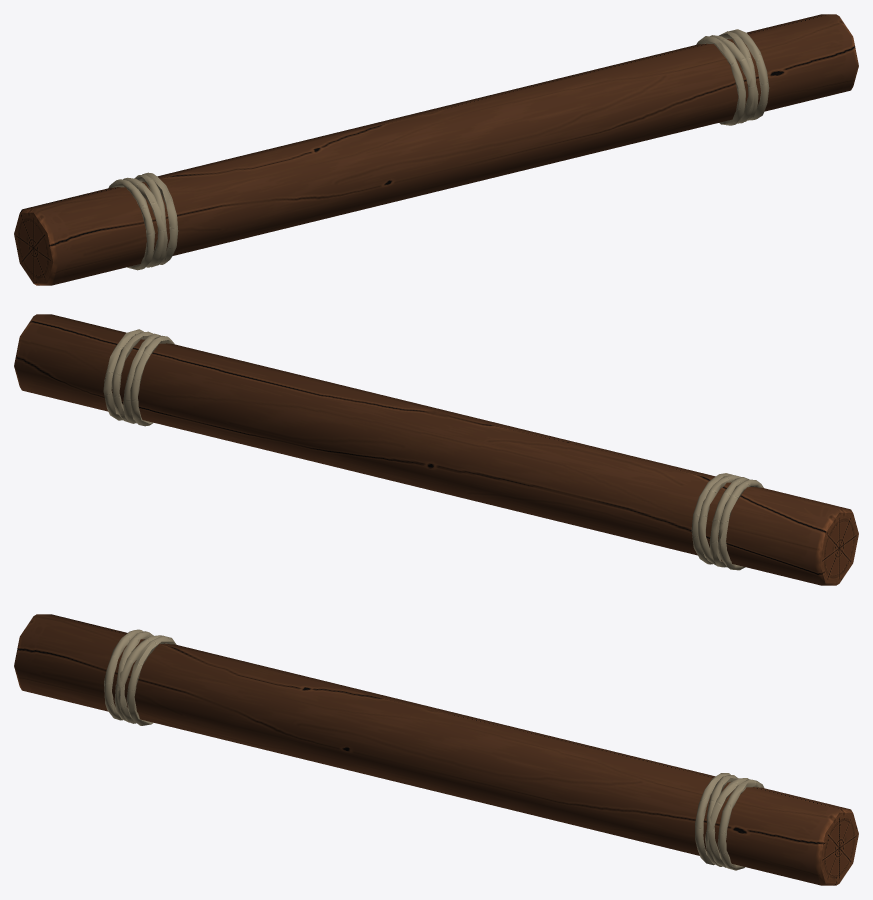
File: LogDoubleBinding.fbx
3 views of the same model, one above another, from view 1: azimuth 30°, elevation 25°; view 2: azimuth 150°, elevation 25°; view 3: azimuth 330°, elevation 25° (orthographic).
Parts seen in each view (by area): view 1: LogDoubleBinding_LOD0; view 2: LogDoubleBinding_LOD0; view 3: LogDoubleBinding_LOD0.
Part boxes in pixels (box(x1,y1,x2,y2)): LogDoubleBinding_LOD0: box(14, 14, 858, 285); LogDoubleBinding_LOD0: box(14, 314, 858, 585); LogDoubleBinding_LOD0: box(14, 614, 858, 885).
Size of what is drawn, in the model's own units: 489 by 49.25 by 49.32.
1 material, 1 textured.
